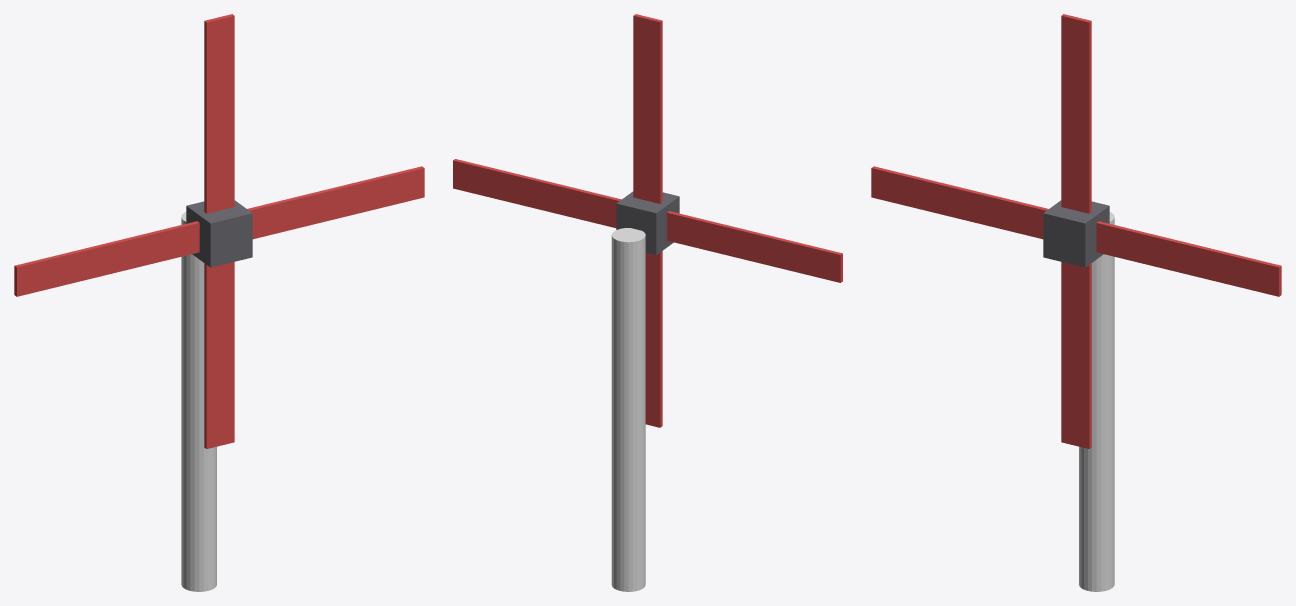
File: windmill.glb
3 renders of one model, left to right at view 1: azimuth 30°, elevation 25°; view 2: azimuth 150°, elevation 25°; view 3: azimuth 330°, elevation 25°, orthographic. The views are drawn at different scales.
Visible parts, largest first — view 1: Post, Blade.3, Blade.0, Blade.2, Blade.1, Hub; view 2: Post, Blade.0, Blade.3, Blade.1, Blade.2, Hub; view 3: Post, Blade.1, Blade.0, Blade.2, Blade.3, Hub.
Part boxes in pixels (x1,y1,x2,y2): Post: (181, 212, 216, 591); Blade.3: (14, 221, 199, 296); Blade.0: (204, 14, 234, 213); Blade.2: (204, 262, 234, 448); Blade.1: (247, 166, 424, 239); Hub: (186, 200, 252, 267); Post: (611, 228, 645, 591); Blade.0: (633, 14, 662, 203); Blade.3: (667, 211, 842, 282); Blade.1: (453, 159, 621, 227); Blade.2: (645, 251, 662, 427); Hub: (616, 191, 679, 255); Post: (1079, 212, 1114, 591); Blade.1: (1096, 221, 1281, 296); Blade.0: (1061, 14, 1091, 213); Blade.2: (1061, 262, 1091, 448); Blade.3: (871, 166, 1048, 239); Hub: (1043, 200, 1109, 267).
Size of the model in its own units: 5.8 by 7.9 by 1.02.
